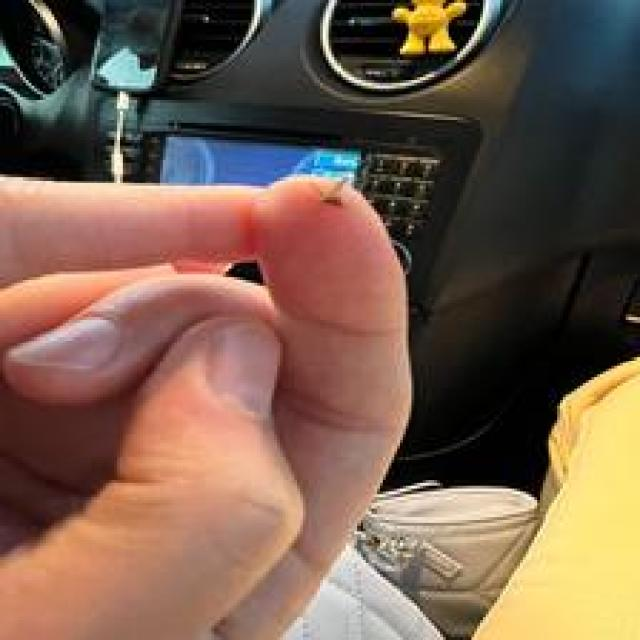Culex: (390, 0, 470, 57)
